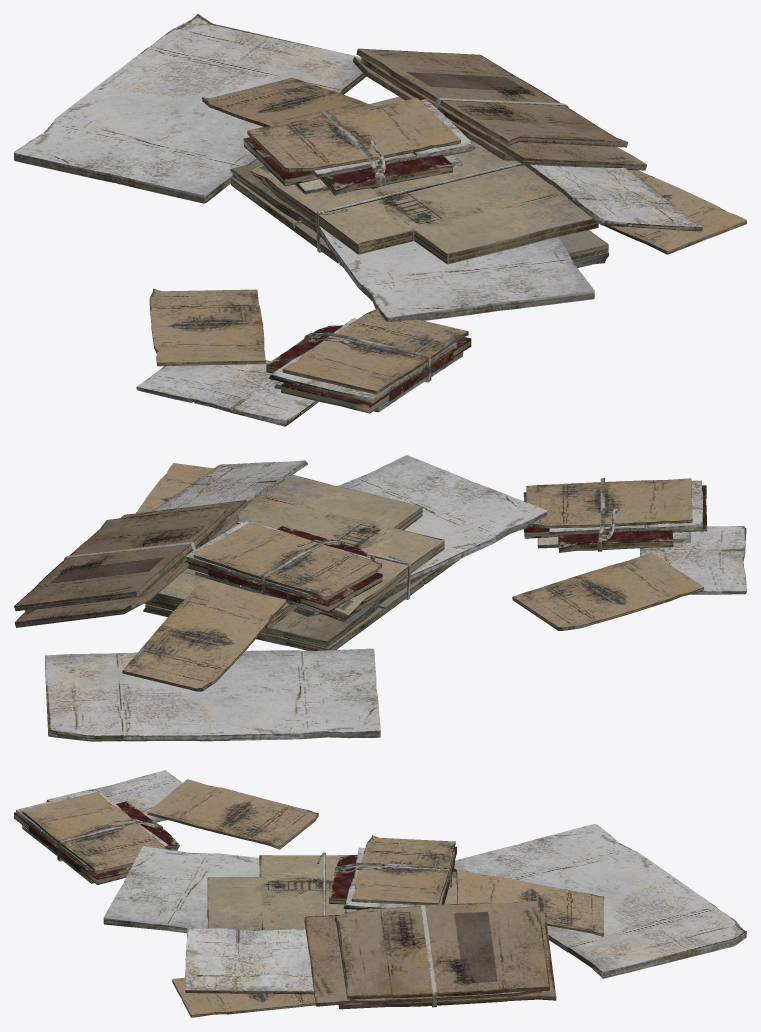
The model's file is 82_cardboardrecycle02b.fbx.
3 renders of one model, top to bottom at view 1: azimuth 30°, elevation 25°; view 2: azimuth 150°, elevation 25°; view 3: azimuth 270°, elevation 25°, orthographic. The views are drawn at different scales.
Parts seen in each view (by area): view 1: LOD_1_Group_0_Sub_1__sm36_082_CardboardRecycle02B_A_Mat; view 2: LOD_1_Group_0_Sub_1__sm36_082_CardboardRecycle02B_A_Mat; view 3: LOD_1_Group_0_Sub_1__sm36_082_CardboardRecycle02B_A_Mat.
Part boxes in pixels (x1,y1,x2,y2): LOD_1_Group_0_Sub_1__sm36_082_CardboardRecycle02B_A_Mat: (14, 14, 746, 426); LOD_1_Group_0_Sub_1__sm36_082_CardboardRecycle02B_A_Mat: (14, 455, 746, 741); LOD_1_Group_0_Sub_1__sm36_082_CardboardRecycle02B_A_Mat: (14, 770, 746, 1017).
Bounding box in the file's own units: 2.83 × 0.2969 × 3.55.
